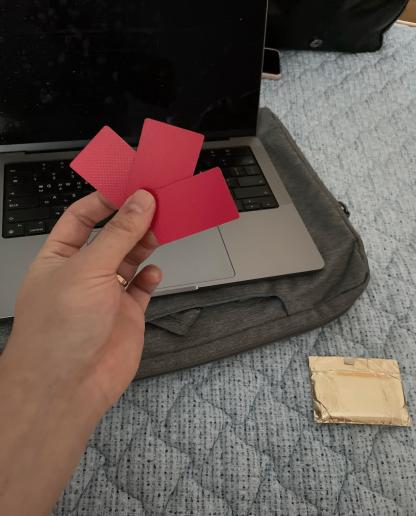ThreeHwatoo: (54, 118, 244, 247)
